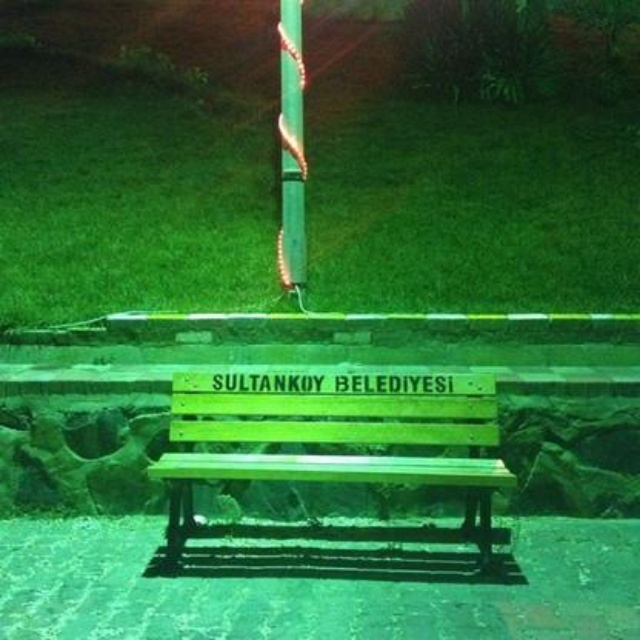obstacle: (140, 349, 529, 574)
